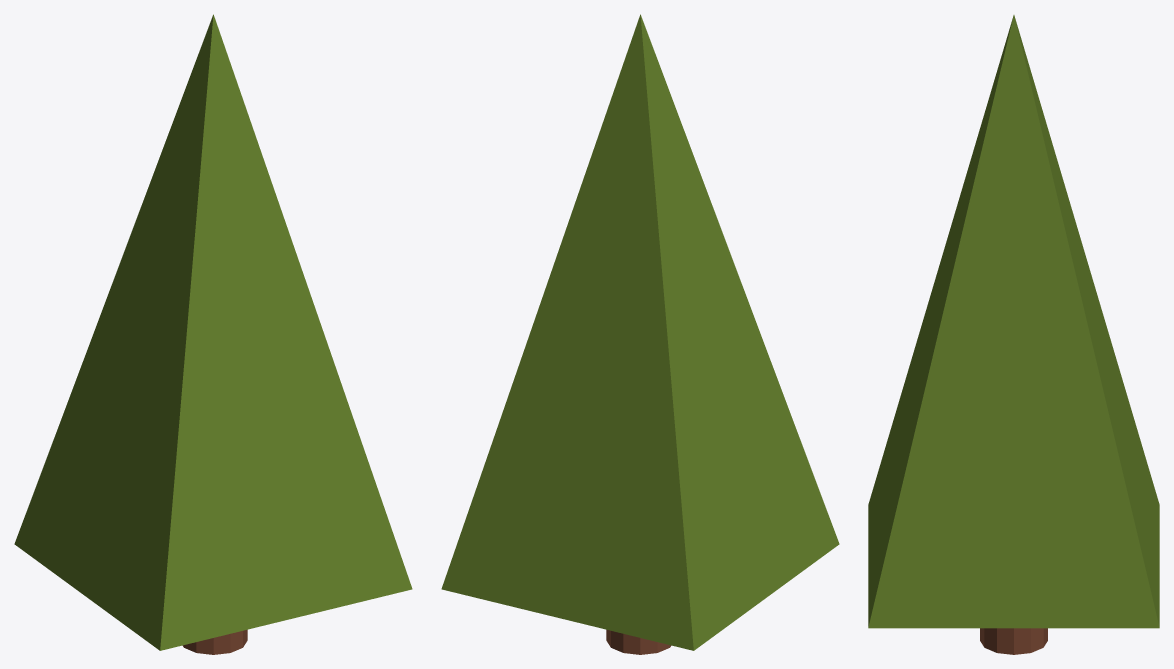
The model's file is Tree_36_autumn_mat.fbx.
3 renders of one model, left to right at view 1: azimuth 30°, elevation 25°; view 2: azimuth 150°, elevation 25°; view 3: azimuth 270°, elevation 25°, orthographic.
Parts seen in each view (by area): view 1: Tree_36_autumn_mat; view 2: Tree_36_autumn_mat; view 3: Tree_36_autumn_mat.
Part boxes in pixels (<box>): Tree_36_autumn_mat: <box>14,14,412,654</box>; Tree_36_autumn_mat: <box>441,14,839,654</box>; Tree_36_autumn_mat: <box>868,15,1159,654</box>.
Size of the model in its own units: 2.76 by 6.55 by 2.76.
